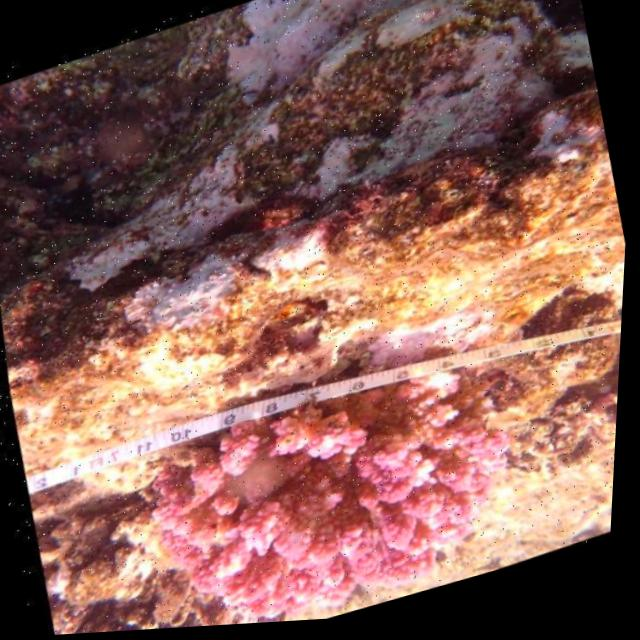Bleached Coral: (183, 0, 587, 132), (104, 247, 251, 354)
Healthy Coral: (120, 345, 572, 633)
